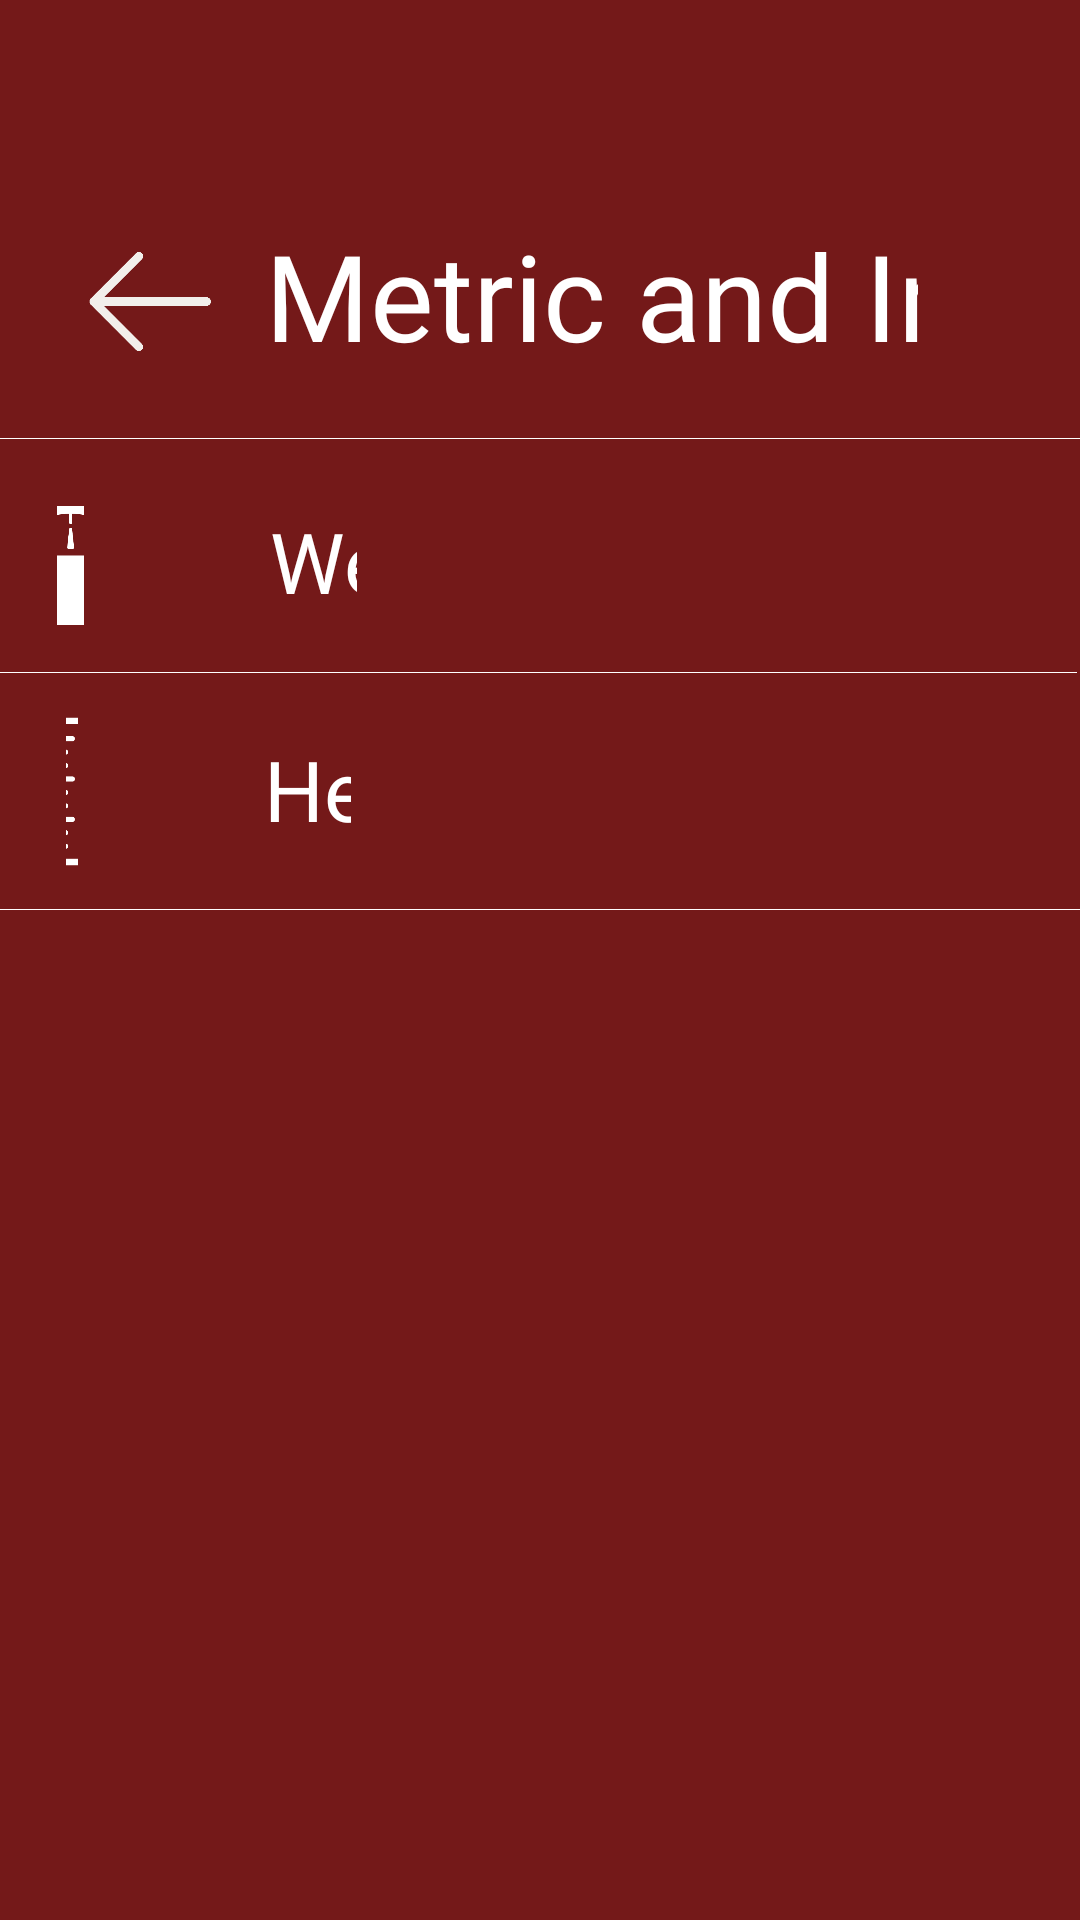

Named icons in this screenshot (1080x1920) and their centers, (x,y):
back: (150,301)
